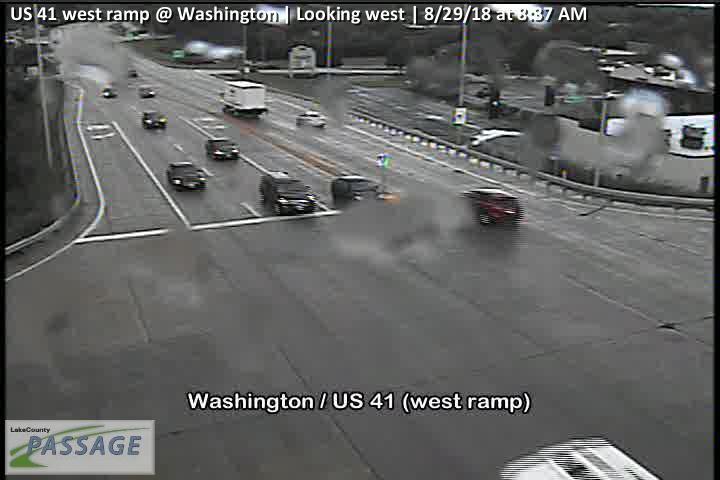SUV: (259, 169, 318, 215), (459, 187, 524, 227)
Sedan: (329, 175, 395, 211), (164, 161, 207, 192), (204, 134, 240, 162), (140, 109, 168, 131), (137, 83, 157, 99), (100, 85, 118, 100), (125, 66, 139, 79)
Truck: (217, 79, 270, 119), (295, 108, 328, 129)
